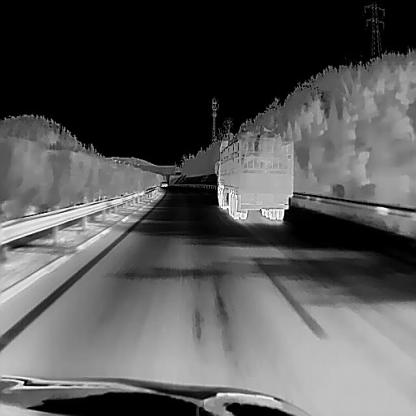truck: (214, 138, 293, 219)
